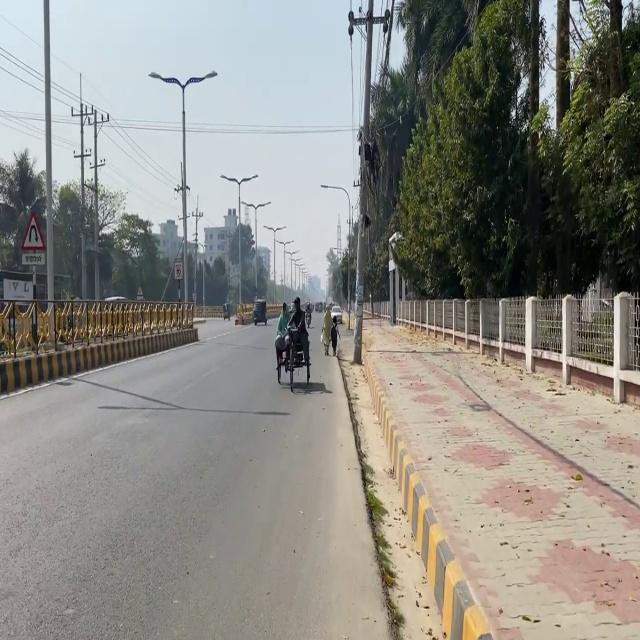Construction-barrier: (337, 346, 496, 639), (335, 349, 398, 638)
Downstairs: (252, 298, 267, 325)
Light-pole: (42, 0, 55, 307)
Pole: (0, 290, 212, 390)
Pothole: (352, 313, 639, 639)
Traffic-cone: (274, 320, 311, 392)
